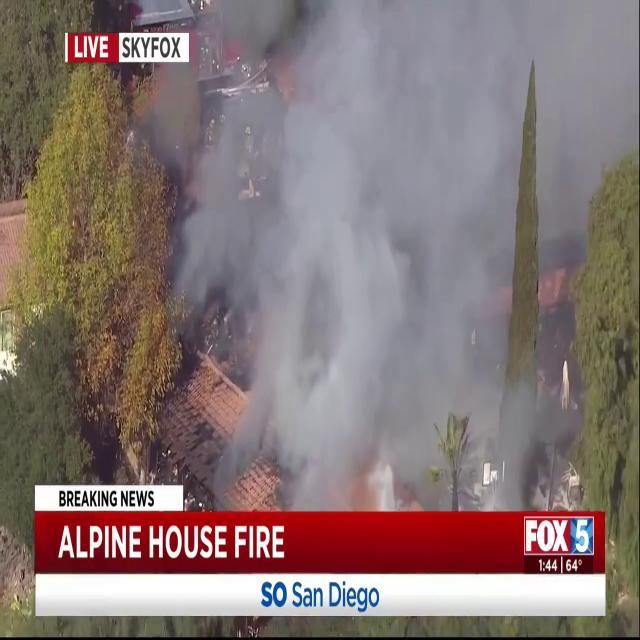Smoke: (161, 0, 551, 513)
